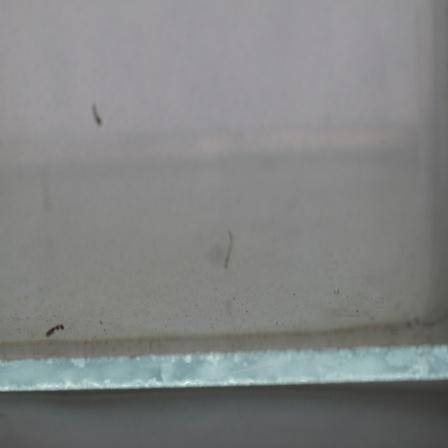Jentik-Nyamuk: (219, 228, 236, 275), (42, 320, 67, 341)
